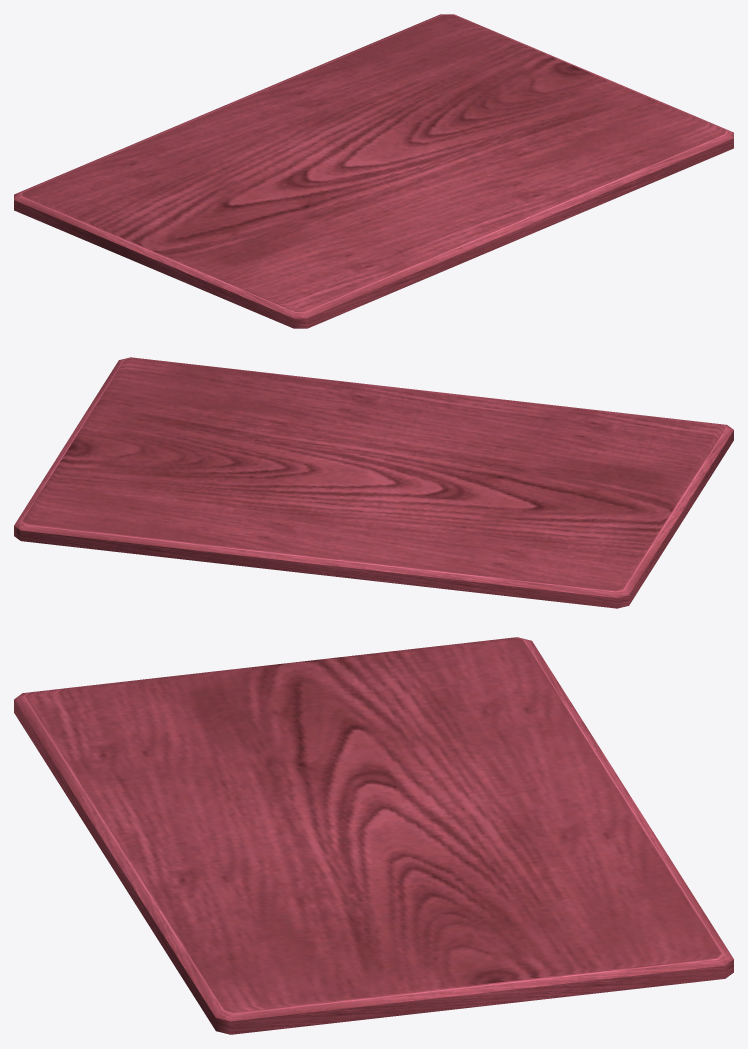
The picture shows the model from 3 angles, top to bottom: view 1: azimuth 30°, elevation 25°; view 2: azimuth 150°, elevation 25°; view 3: azimuth 270°, elevation 25°; orthographic projection. The views are drawn at different scales.
Visible parts, largest first — view 1: Joint_0_Object_0; view 2: Joint_0_Object_0; view 3: Joint_0_Object_0.
Boxes of the visible parts, x1,y1,x2,y2 form: Joint_0_Object_0: (14, 14, 733, 328); Joint_0_Object_0: (14, 357, 733, 608); Joint_0_Object_0: (14, 637, 733, 1034).
Bounding box in the file's own units: 1866 × 50 × 1477.
Materials: 1 (1 with a texture image).
